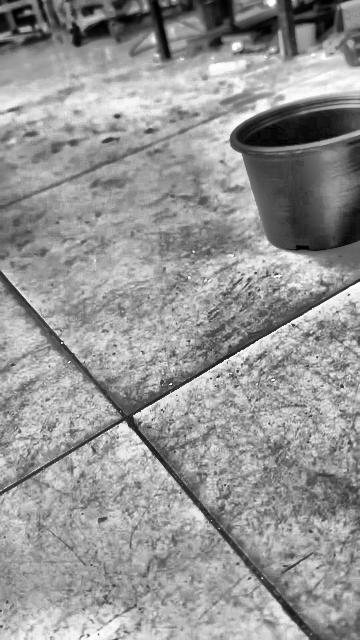pot: (230, 94, 360, 251)
